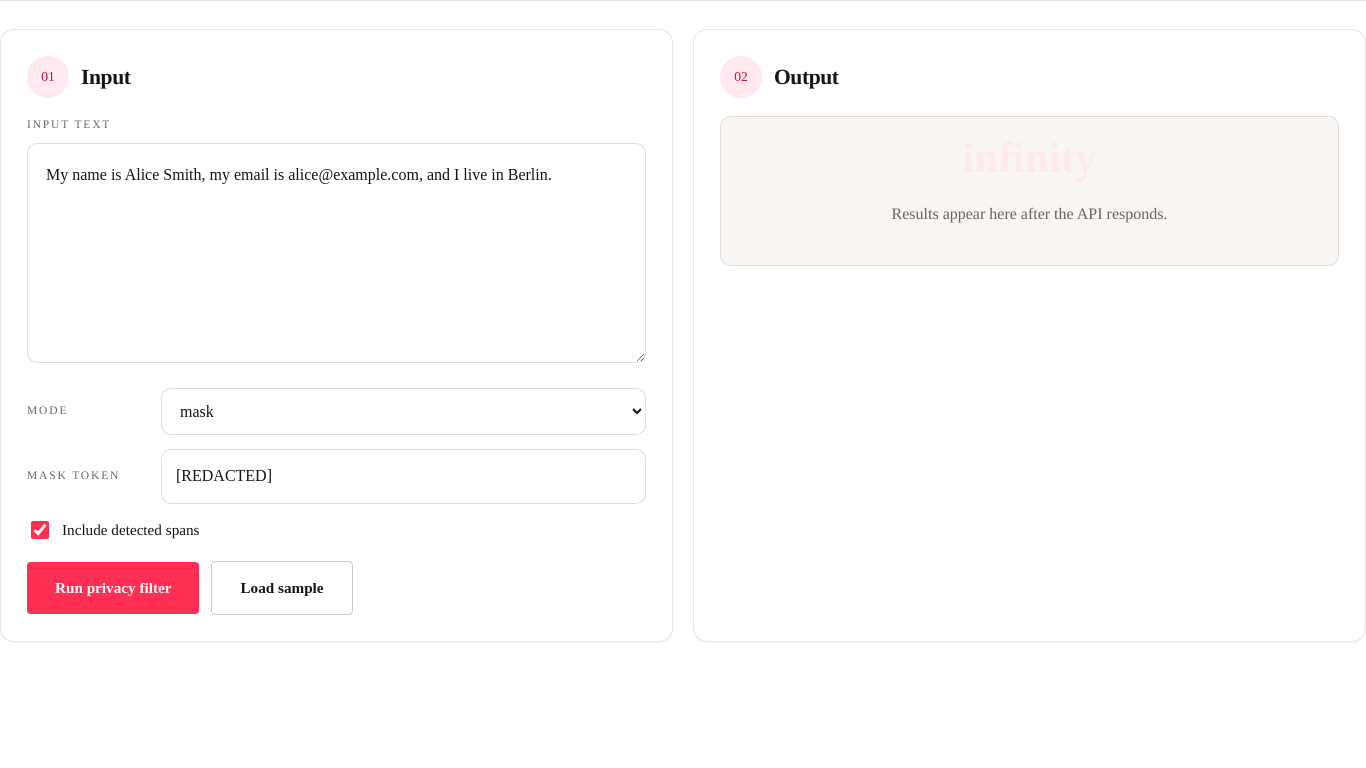
Test: FilterSandbox › server runtime › surfaces upstream errors
The image size is (1366, 768).
Click the button "Run privacy filter". click: (113, 588)
box: 27,562 -> 199,614
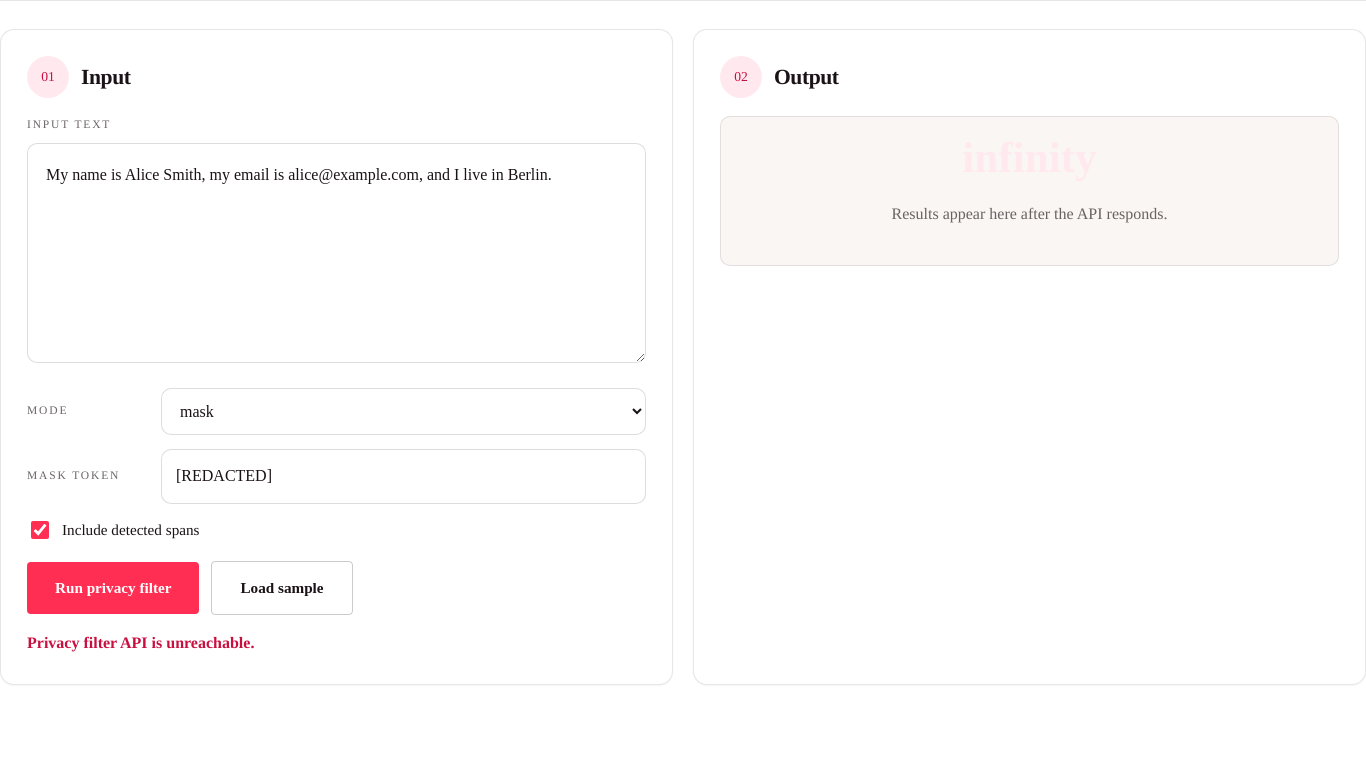
expect the text "Privacy filter API is unreachable." is shown: met, box 27,635 -> 254,652
